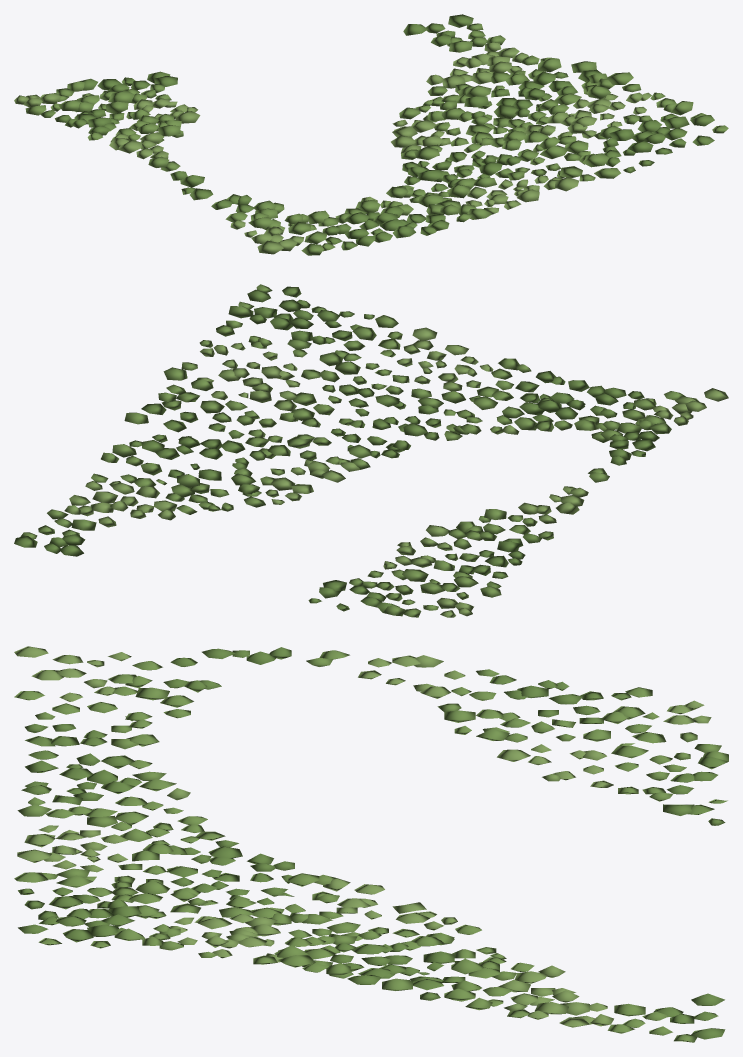
Rendered from canopy-1-4--5.glb.
The picture shows the model from 3 angles, top to bottom: view 1: azimuth 30°, elevation 25°; view 2: azimuth 150°, elevation 25°; view 3: azimuth 270°, elevation 25°; orthographic projection. The views are drawn at different scales.
Size of the model in its own units: 520 by 87.5 by 515.
1 material, 1 textured.
